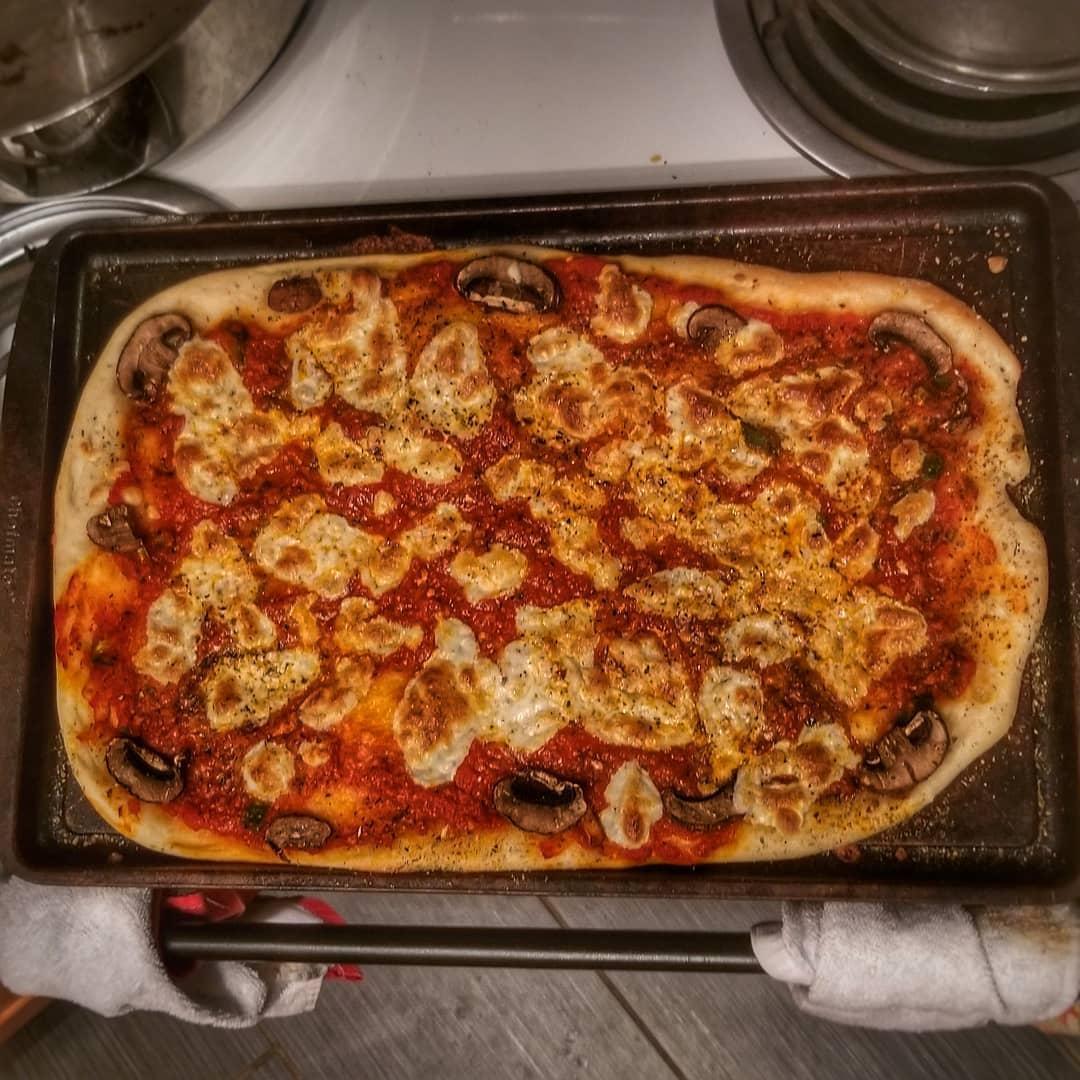Cheese: (425, 658, 677, 737), (328, 314, 479, 414), (558, 369, 713, 450), (193, 553, 264, 718), (723, 520, 846, 602), (184, 352, 252, 486), (263, 516, 389, 588)
Mushroom: (853, 706, 953, 797), (113, 310, 197, 407), (453, 246, 564, 316), (488, 763, 590, 835), (865, 306, 956, 380), (105, 735, 187, 811), (659, 778, 748, 832), (268, 811, 332, 860), (686, 303, 752, 341)
Pizza: (52, 247, 1035, 858)
